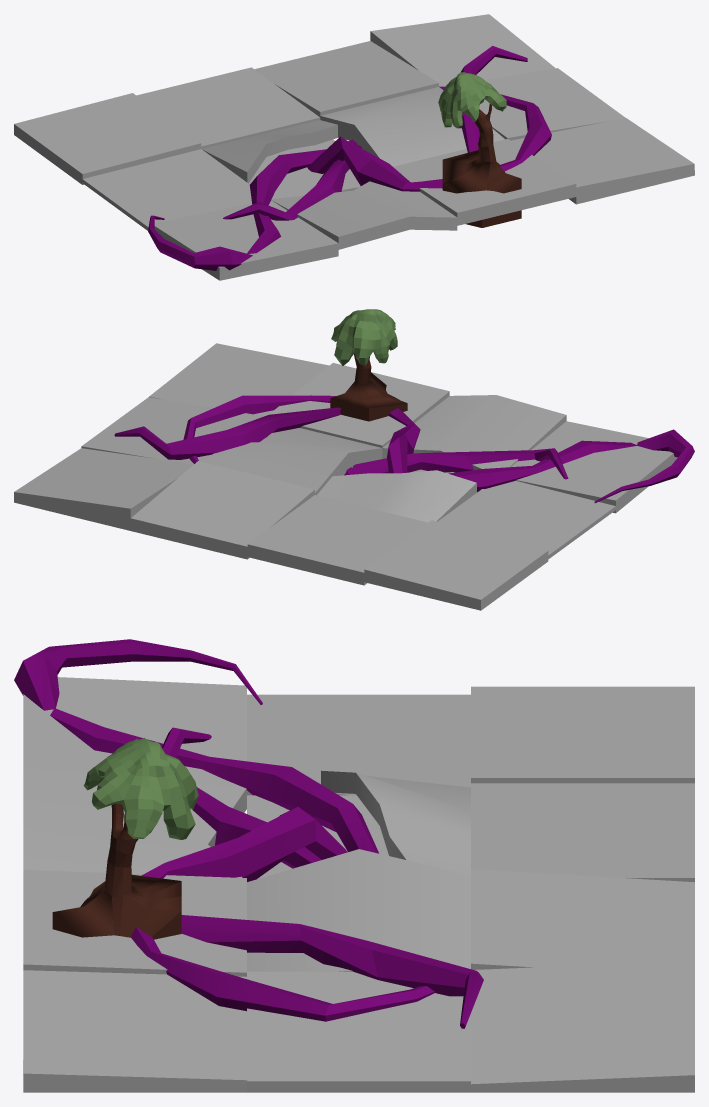
File: raiz_chao.fbx
3 views of the same model, one above another, from view 1: azimuth 30°, elevation 25°; view 2: azimuth 150°, elevation 25°; view 3: azimuth 270°, elevation 25° (orthographic). The views are drawn at different scales.
Parts seen in each view (by area): view 1: polySurface15; view 2: polySurface15; view 3: polySurface15.
Part boxes in pixels (bbox=[...]): polySurface15: bbox=[14, 14, 694, 280]; polySurface15: bbox=[14, 309, 694, 610]; polySurface15: bbox=[14, 639, 694, 1092].
Size of the model in its own units: 4.25 by 1.08 by 3.04.
